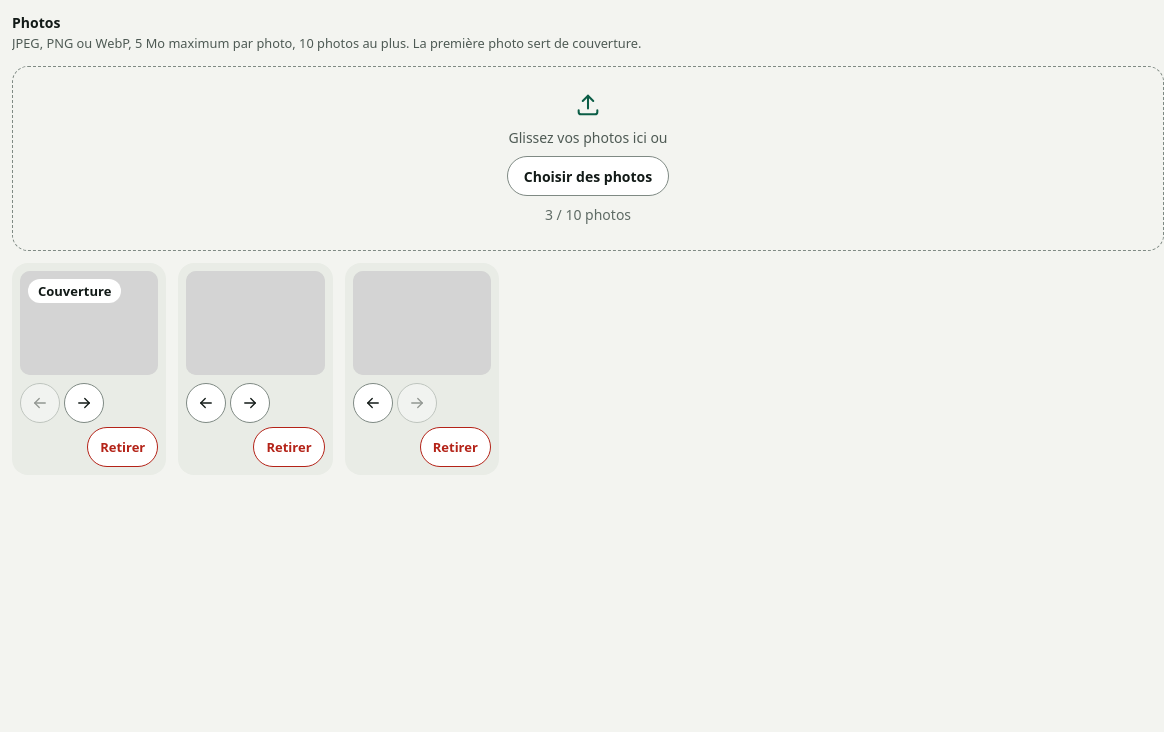
PhotoManager › existing listing: deletes a photo only after confirmation
Click the 1st button "Retirer".
click(123, 447)  # box [87,427,158,467]
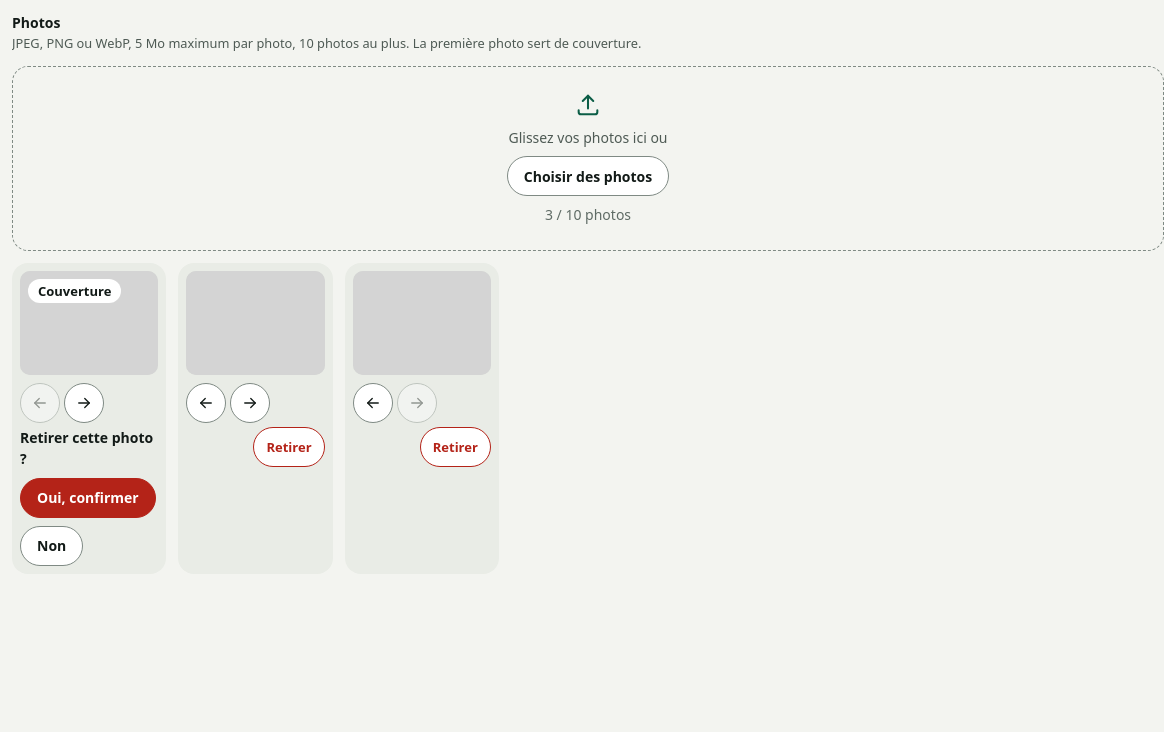
Click the button "Oui, confirmer".
click(88, 498)  # box [20,478,156,518]
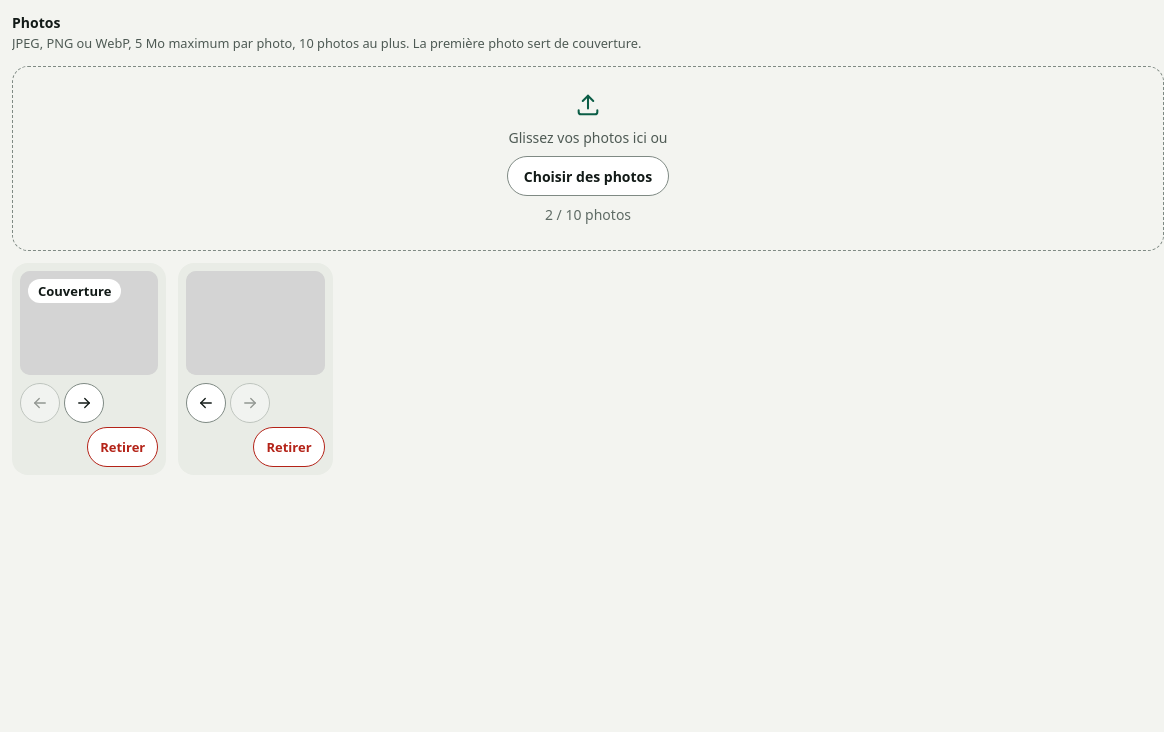
Now the number of list items is 2, box [12,263,166,475]; [178,263,333,475]
